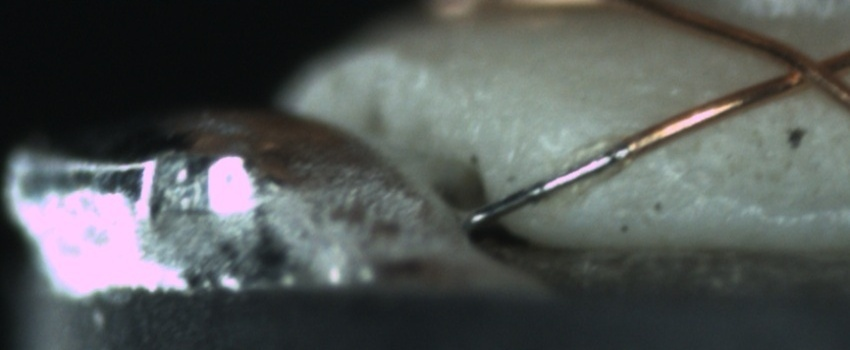CL: (763, 38, 847, 100)
TS: (471, 144, 631, 225)
